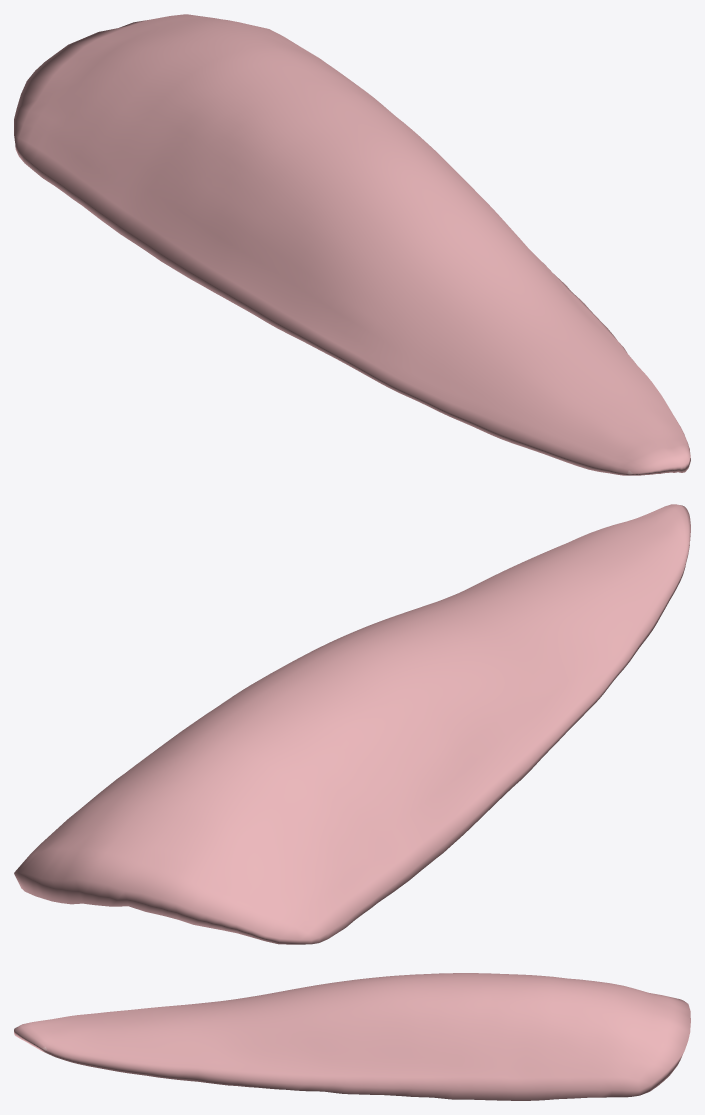
File: Curved acrylic nail.fbx
3 renders of one model, top to bottom at view 1: azimuth 30°, elevation 25°; view 2: azimuth 150°, elevation 25°; view 3: azimuth 270°, elevation 25°, orthographic. The views are drawn at different scales.
Visible parts, largest first — view 1: curved acrylic nail; view 2: curved acrylic nail; view 3: curved acrylic nail.
Boxes of the visible parts, box(x1,y1,x2,y2) form: curved acrylic nail: box(14, 14, 690, 475); curved acrylic nail: box(14, 504, 690, 944); curved acrylic nail: box(14, 973, 690, 1100).
Size of the model in its own units: 74.15 by 31.32 by 239.
Materials: 1 (1 with a texture image).
